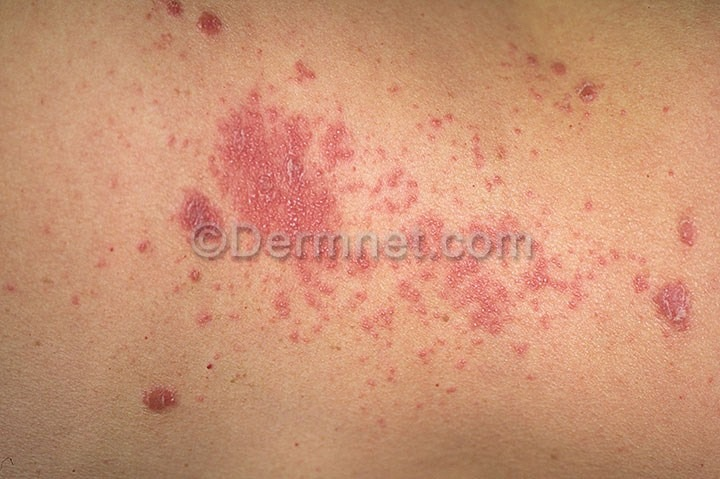Psoriasis: (179, 69, 613, 359), (623, 202, 712, 340), (160, 1, 237, 45), (134, 372, 193, 421)
